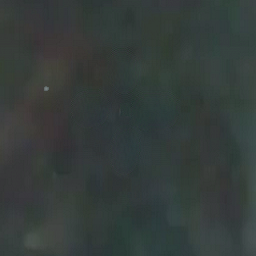Target: (42, 85, 50, 93)
